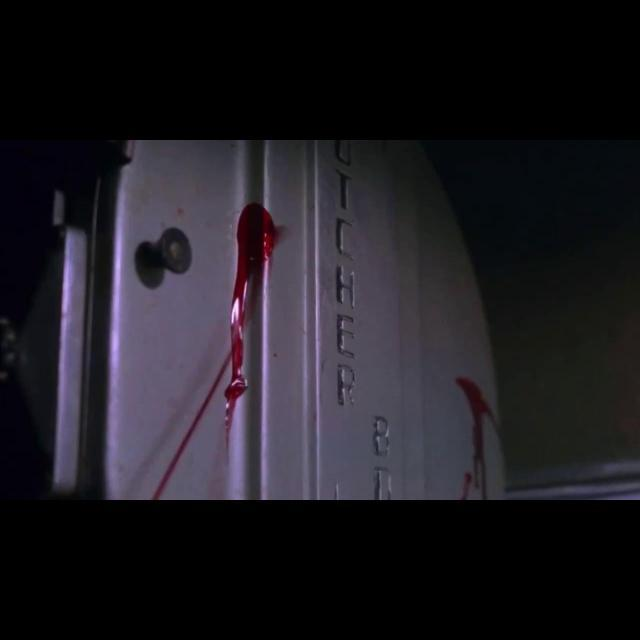blood: (152, 202, 278, 500), (456, 378, 492, 470)
